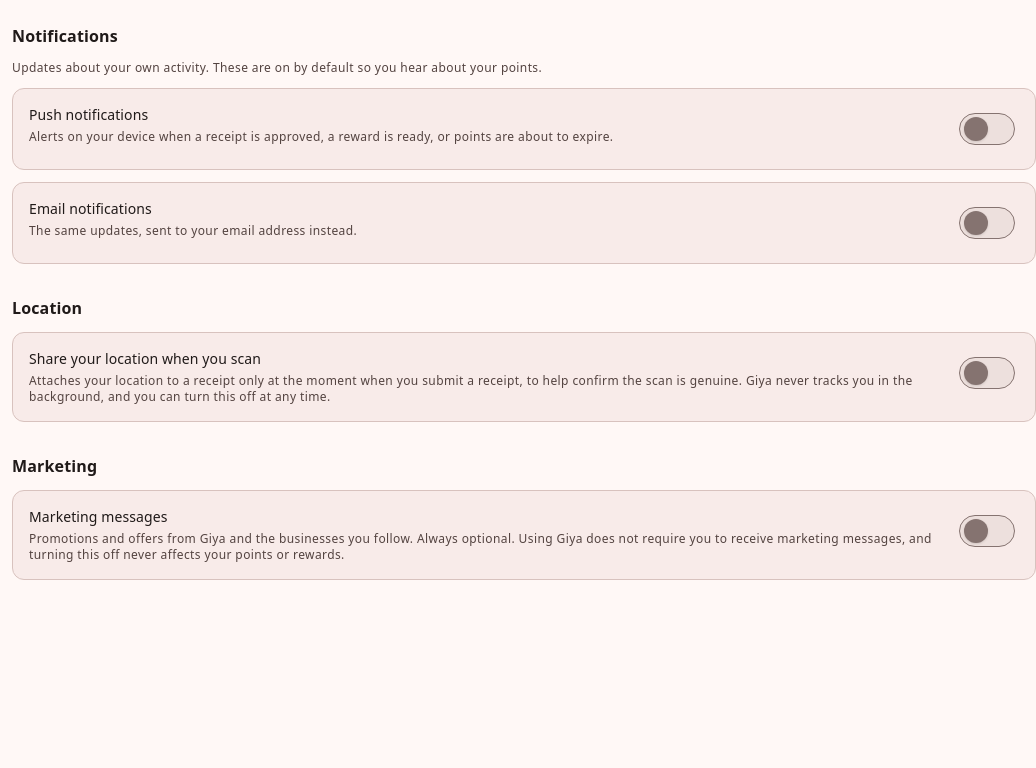
Test: a write that fails › CRITICAL: an empty-string message renders the generic copy, not a blank alert
Click the switch named "Email notifications": (987, 223) [955,199,1019,247]
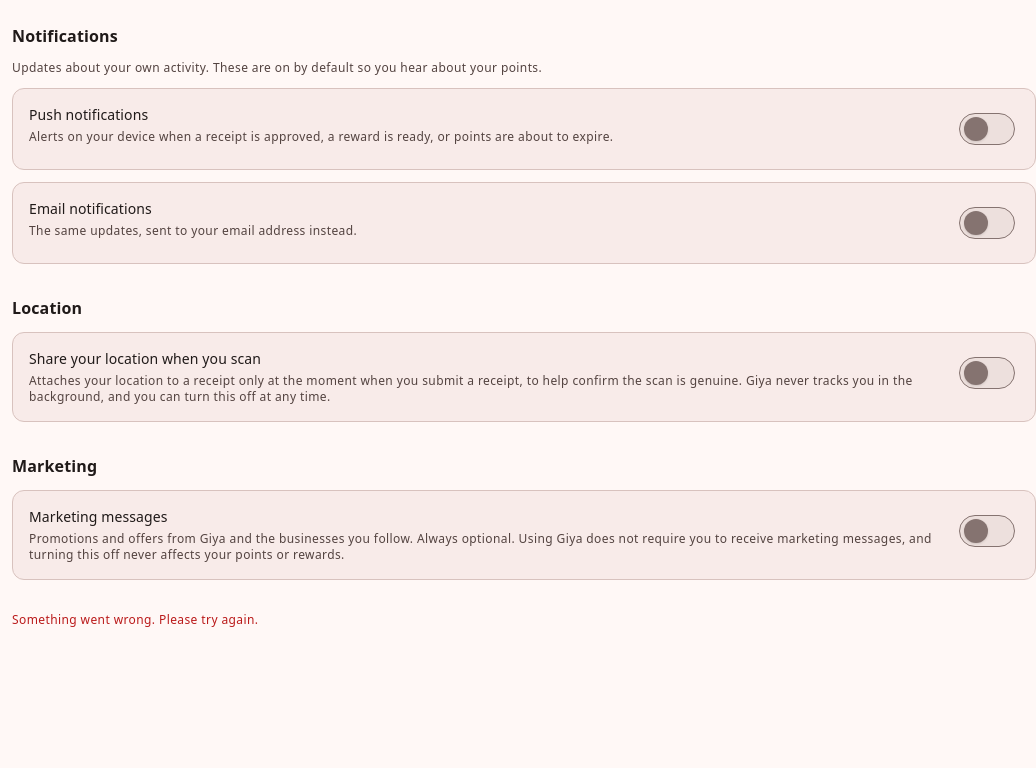
Result: the message reads "Something went wrong. Please try again." at [12,611,258,628]
